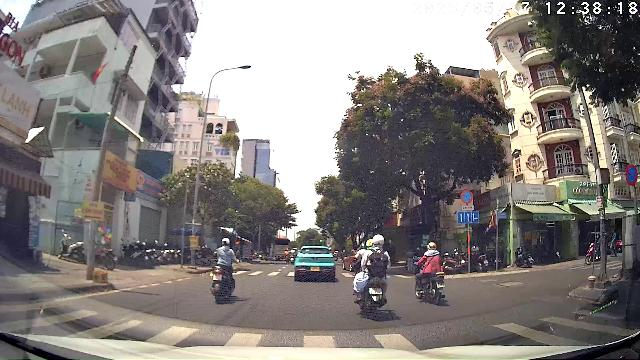131a-cam-do-xe: (625, 164, 638, 186), (460, 189, 473, 204)
